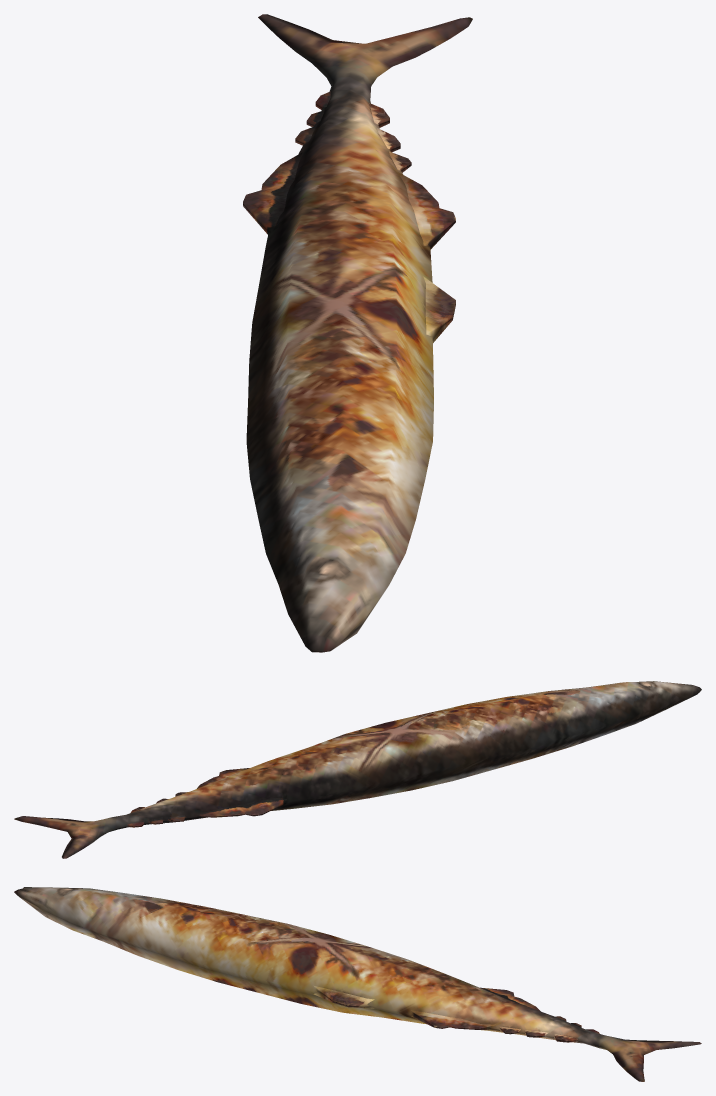
Rendered from ref_grilledfish2.glb.
3 views of the same model, one above another, from view 1: azimuth 30°, elevation 25°; view 2: azimuth 150°, elevation 25°; view 3: azimuth 270°, elevation 25° (orthographic). The views are drawn at different scales.
Parts seen in each view (by area): view 1: ref_grilledfish2; view 2: ref_grilledfish2; view 3: ref_grilledfish2.
Part boxes in pixels (<box>): ref_grilledfish2: <box>243,14,472,652</box>; ref_grilledfish2: <box>14,681,701,858</box>; ref_grilledfish2: <box>14,887,701,1081</box>.
Size of the model in its own units: 0.6634 by 0.0965 by 1.
Materials: 1 (1 with a texture image).
